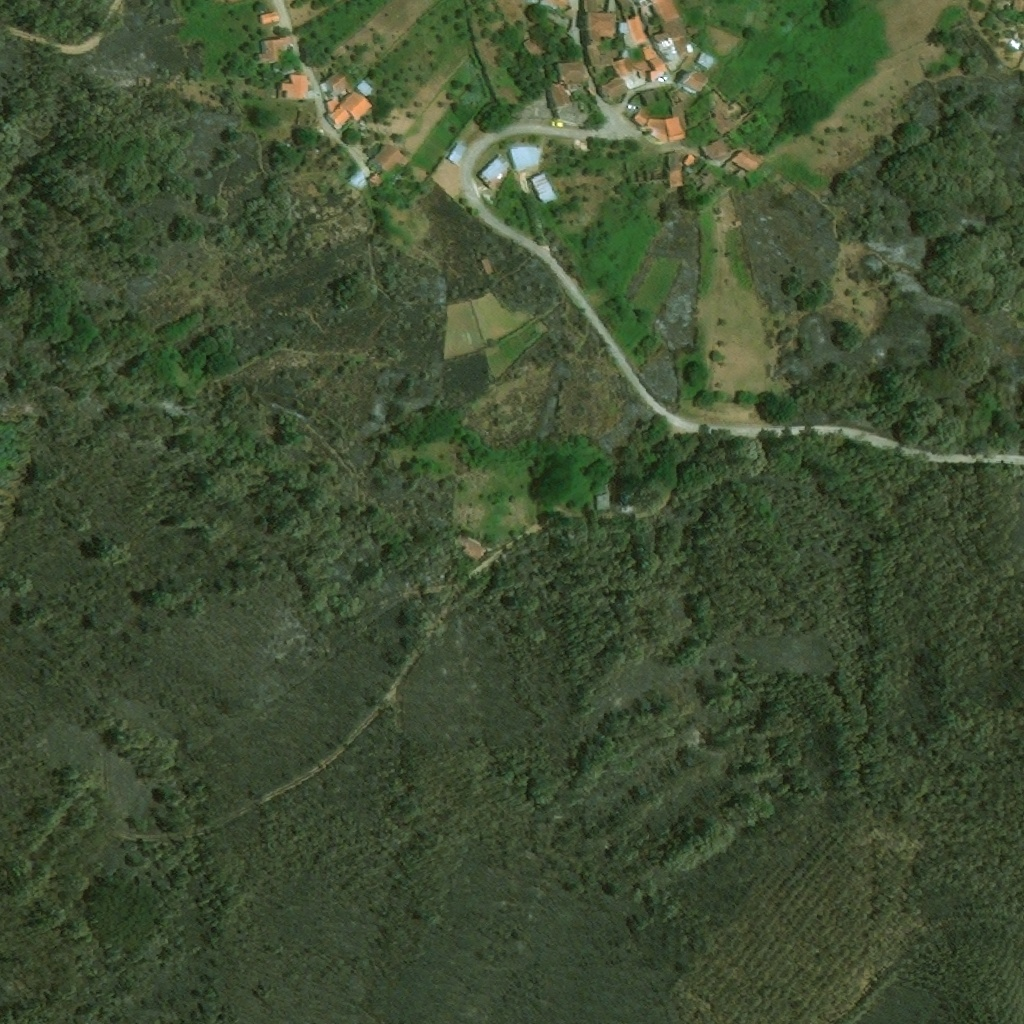0 no-damage: (585, 0, 617, 66), (323, 87, 373, 128), (632, 106, 687, 141), (368, 139, 409, 178), (627, 43, 667, 81), (254, 35, 294, 64), (477, 155, 511, 189), (535, 0, 573, 29), (529, 171, 556, 205), (732, 145, 763, 174), (508, 145, 542, 170), (621, 14, 649, 43), (348, 167, 383, 190), (280, 73, 309, 100), (702, 136, 731, 163), (547, 83, 574, 109), (601, 75, 629, 100), (558, 60, 591, 81), (323, 69, 349, 94), (709, 109, 734, 134), (445, 140, 467, 166), (654, 0, 682, 19), (685, 69, 708, 91), (523, 35, 544, 57), (639, 86, 662, 105), (668, 90, 687, 112), (696, 48, 715, 68), (592, 492, 611, 512), (665, 19, 687, 36), (715, 0, 750, 10), (355, 77, 374, 95), (258, 10, 280, 25), (668, 150, 682, 169), (669, 168, 683, 186), (619, 0, 634, 7), (528, 0, 537, 5)
4 un-classified: (1013, 0, 1023, 12)
